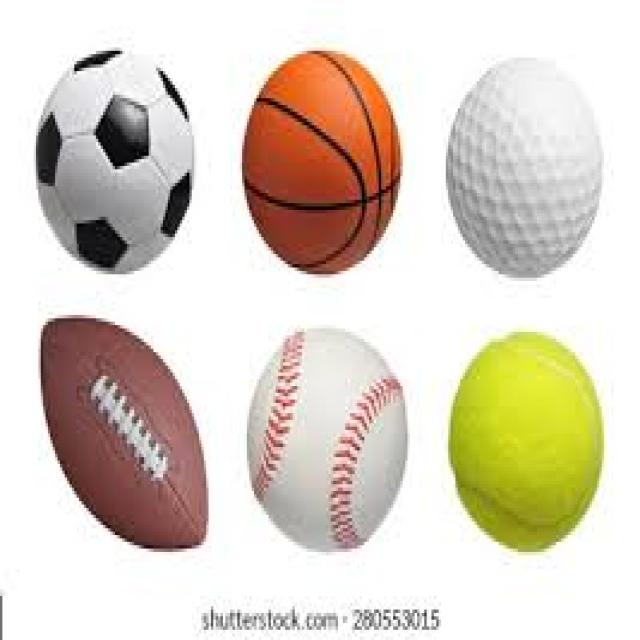ball: (238, 43, 408, 283), (242, 325, 412, 557), (34, 42, 198, 280), (443, 50, 607, 285), (445, 325, 608, 556)
